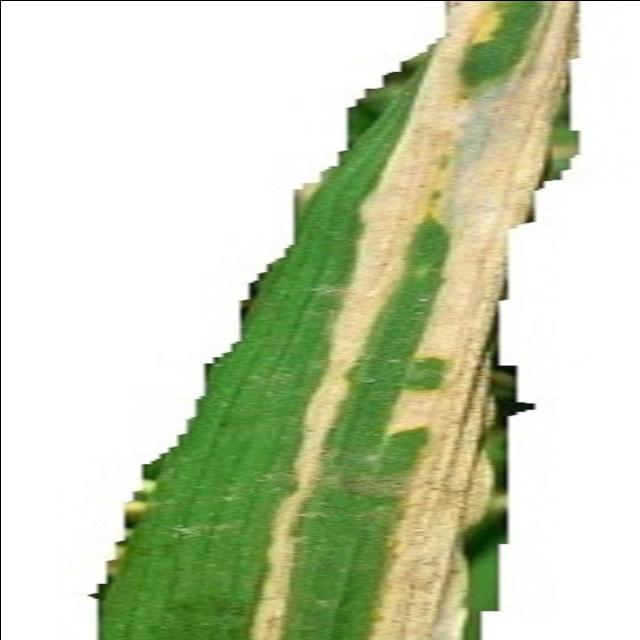Bacterial leaf blight: (97, 1, 640, 640)
